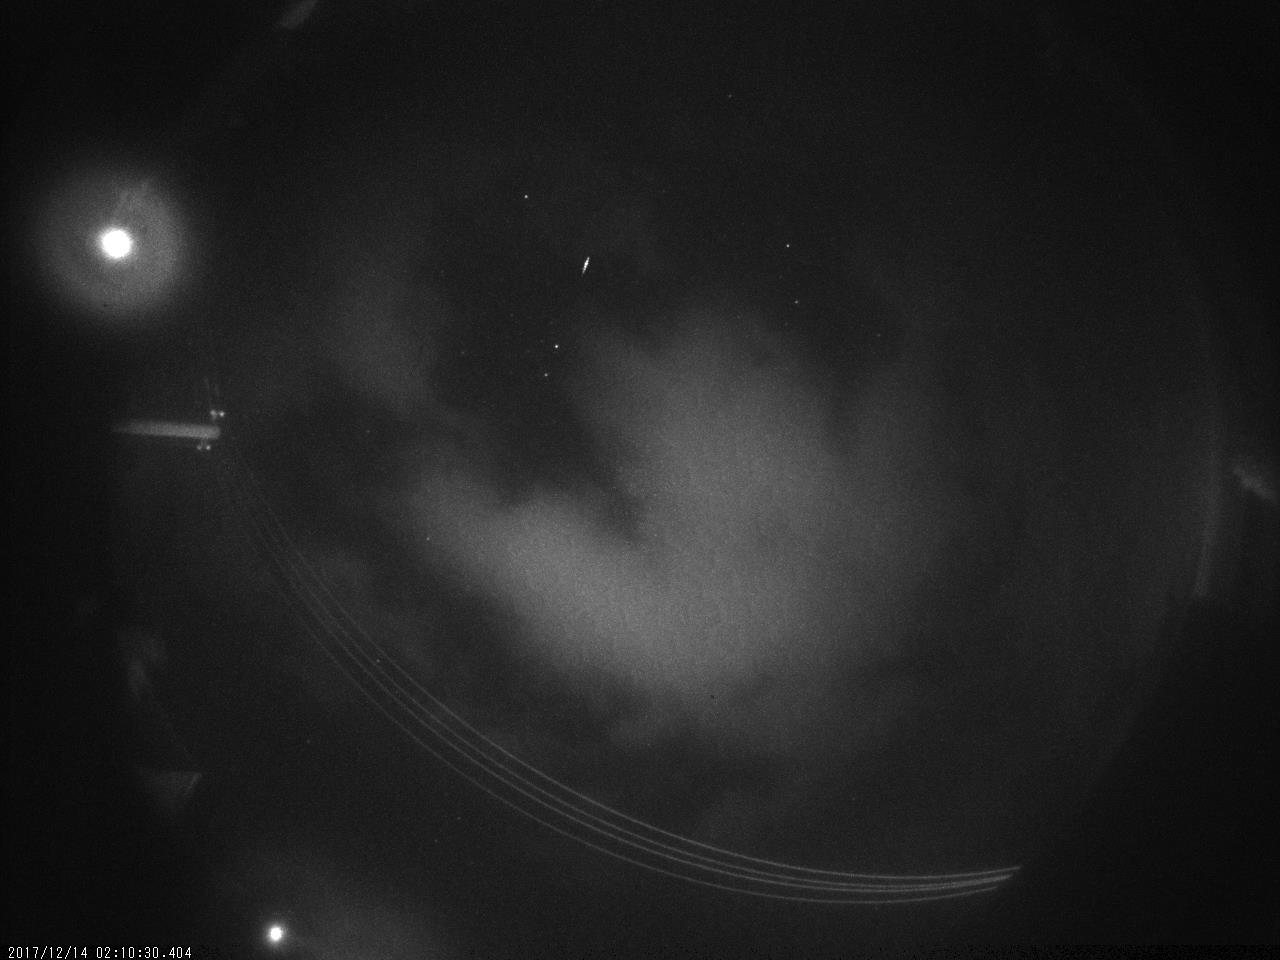meteor: (571, 242, 608, 287)
